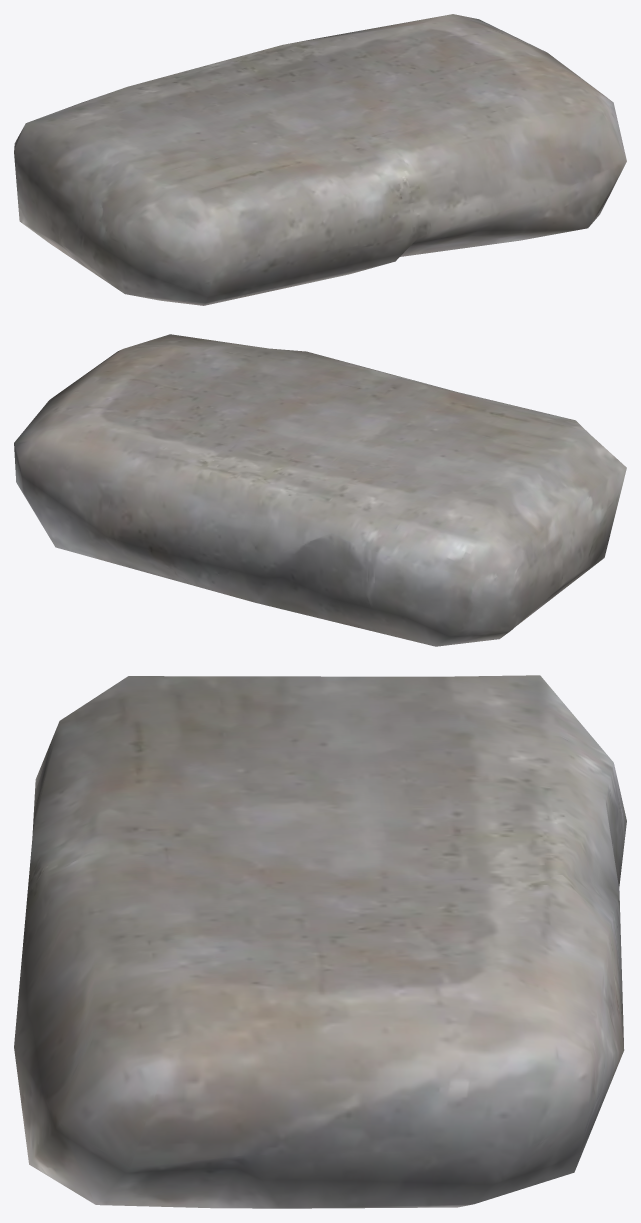
The picture shows the model from 3 angles, top to bottom: view 1: azimuth 30°, elevation 25°; view 2: azimuth 150°, elevation 25°; view 3: azimuth 270°, elevation 25°; orthographic projection. The views are drawn at different scales.
Visible parts, largest first — view 1: SM_Pavement_05_LOD0; view 2: SM_Pavement_05_LOD0; view 3: SM_Pavement_05_LOD0.
Part boxes in pixels (x1,y1,x2,y2): SM_Pavement_05_LOD0: (14,14,626,305); SM_Pavement_05_LOD0: (14,334,626,646); SM_Pavement_05_LOD0: (14,675,626,1208).
Bounding box in the file's own units: 0.5379 × 0.1295 × 0.3456.
Materials: 1 (1 with a texture image).
